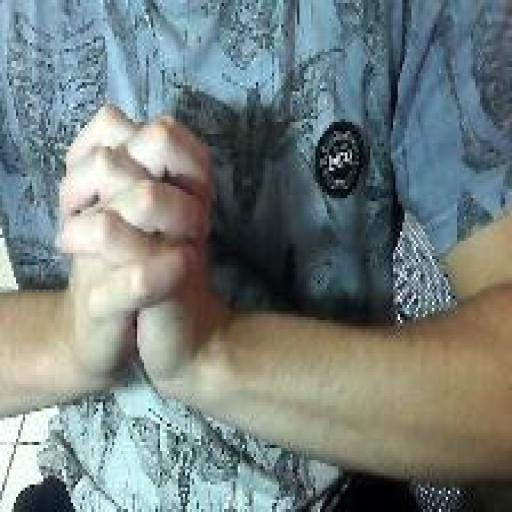Mi -snake-: (50, 98, 220, 418)
